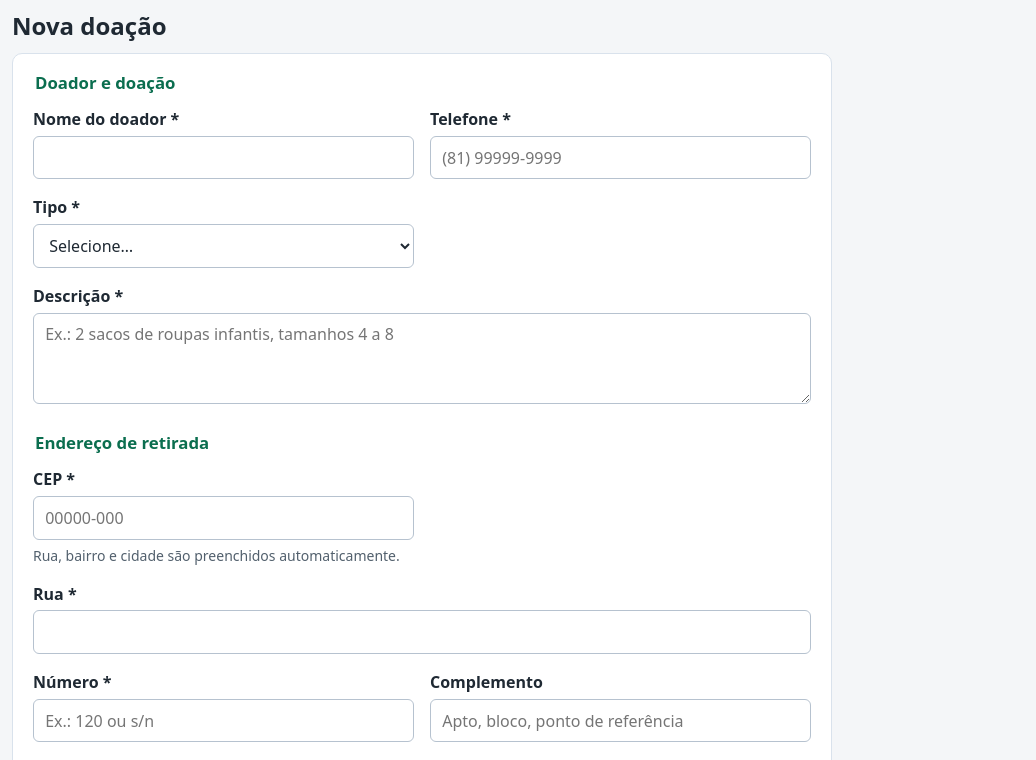
CEP incompleto ao sair do campo mostra CEP inválido sem consultar
Type "5003023" into the field labelled "CEP" at (224, 518), box [33, 496, 414, 540]
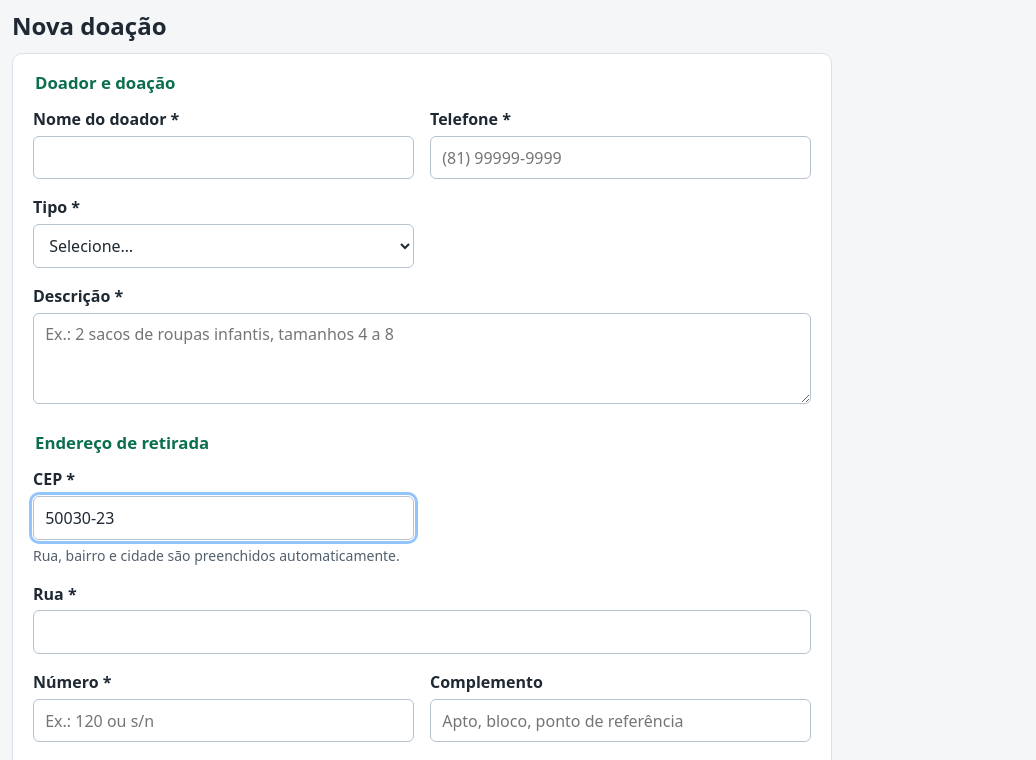
Press Tab
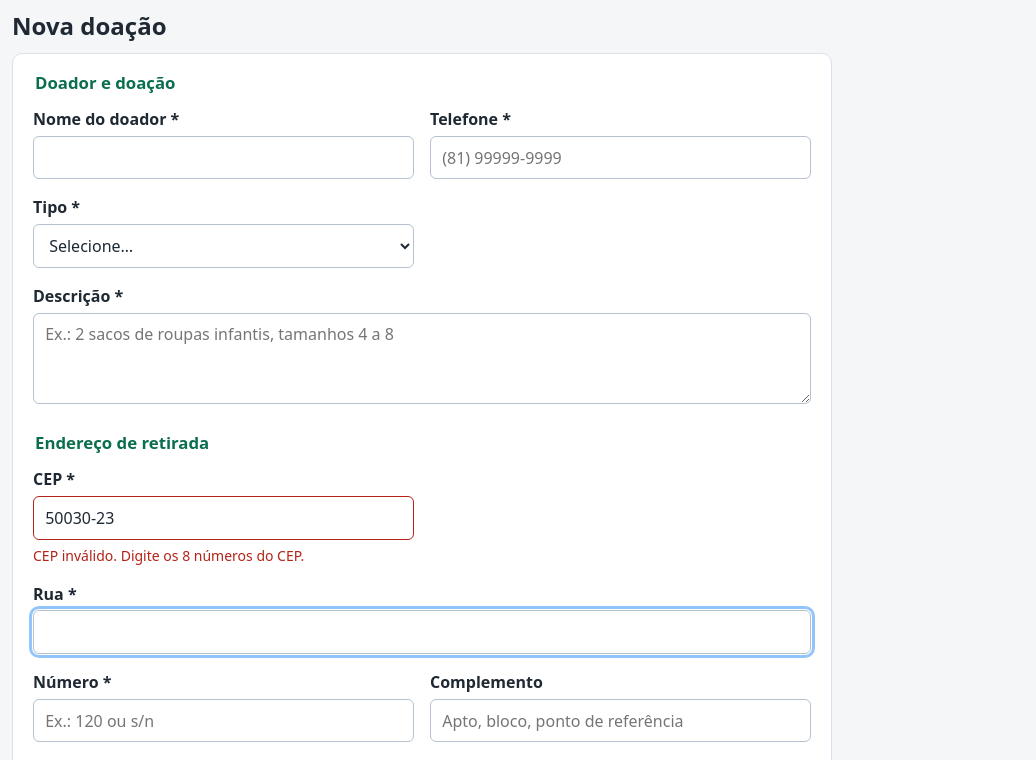
Now the text "CEP inválido. Digite os 8 números do CEP." is shown, box [33, 546, 304, 564]
